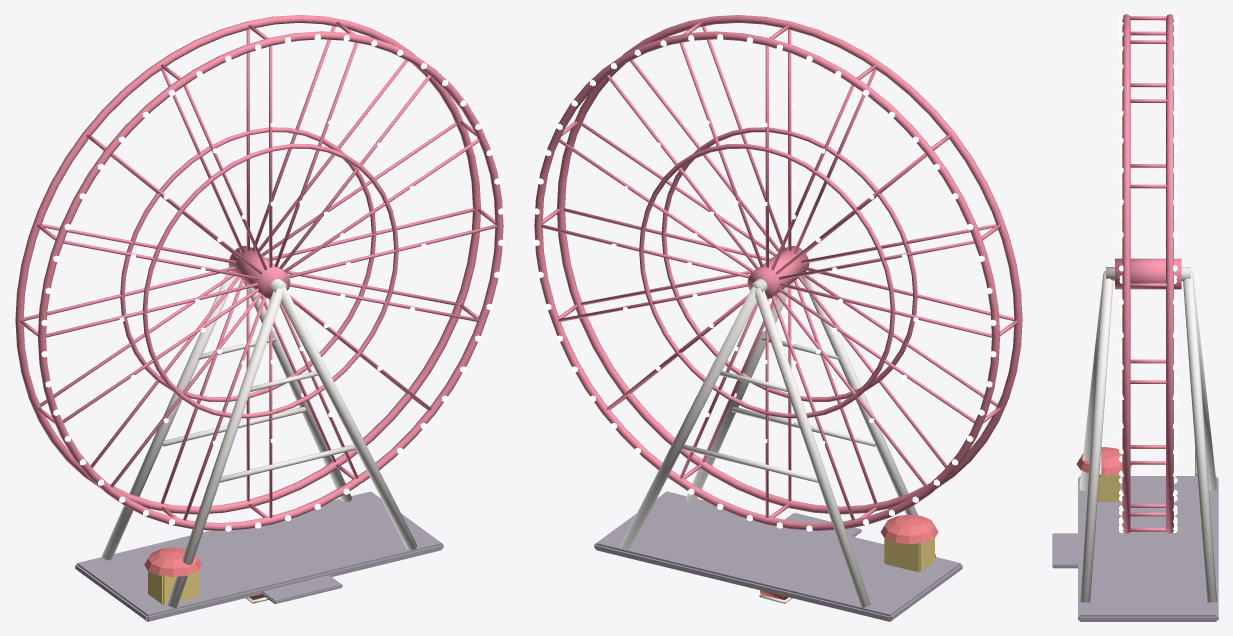
The model's file is ferriswheel.glb.
The picture shows the model from 3 angles, left to right: view 1: azimuth 30°, elevation 25°; view 2: azimuth 150°, elevation 25°; view 3: azimuth 270°, elevation 25°; orthographic projection. The views are drawn at different scales.
Visible parts, largest first — view 1: FW_wheel.001, FW_base.001, FW_steel.001, FW_lights.001, FW_boothroof, FW_booth.001; view 2: FW_wheel.001, FW_base.001, FW_steel.001, FW_lights.001, FW_boothroof, FW_booth.001; view 3: FW_base.001, FW_wheel.001, FW_steel.001, FW_lights.001, FW_boothroof, FW_booth.001.
Boxes of the visible parts, x1,y1,x2,y2 form: FW_wheel.001: (15, 15, 503, 530); FW_base.001: (75, 491, 443, 621); FW_steel.001: (101, 267, 417, 607); FW_lights.001: (14, 14, 504, 531); FW_boothroof: (144, 547, 201, 577); FW_booth.001: (148, 571, 198, 605); FW_wheel.001: (534, 15, 1022, 530); FW_base.001: (594, 491, 962, 621); FW_steel.001: (620, 267, 936, 607); FW_lights.001: (533, 14, 1023, 531); FW_boothroof: (881, 514, 938, 544); FW_booth.001: (884, 538, 934, 572); FW_base.001: (1052, 476, 1218, 621); FW_wheel.001: (1115, 14, 1181, 533); FW_steel.001: (1079, 267, 1216, 602); FW_lights.001: (1119, 15, 1177, 532); FW_boothroof: (1077, 447, 1131, 475); FW_booth.001: (1097, 474, 1119, 501).
Size of the model in its own units: 40.64 by 47.34 by 13.
